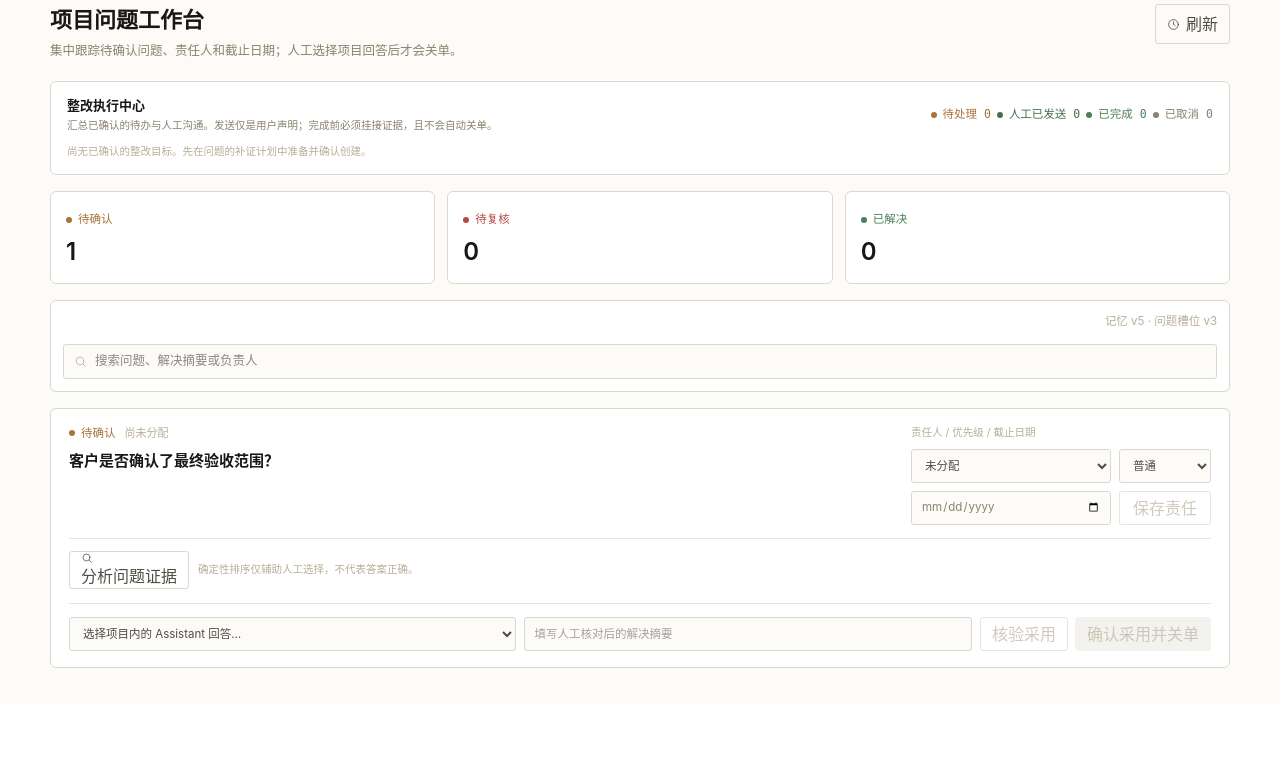
Test: project question workbench › persists a frozen preview and requires a second confirmation for manual communication
This screenshot has width=1280, height=764.
Expected: the heading "客户是否确认了最终验收范围？" is shown, 69,451 -> 279,470
Click the button "分析问题证据" at (129, 570), box 69,550 -> 189,588
(page scrolled)
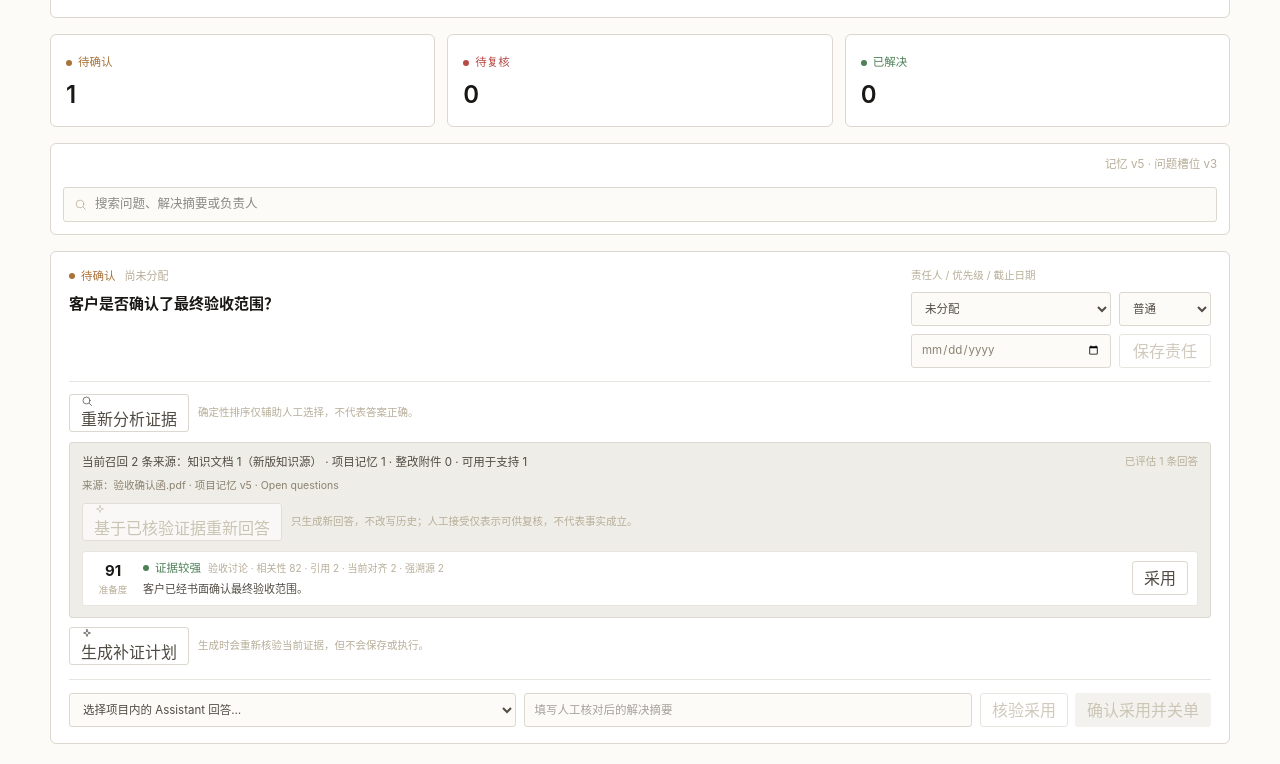
Now the element named "问题证据分析" is shown, box 69,442 -> 1211,618
Click the button "生成补证计划" at (129, 646), box 69,627 -> 189,665
(page scrolled)
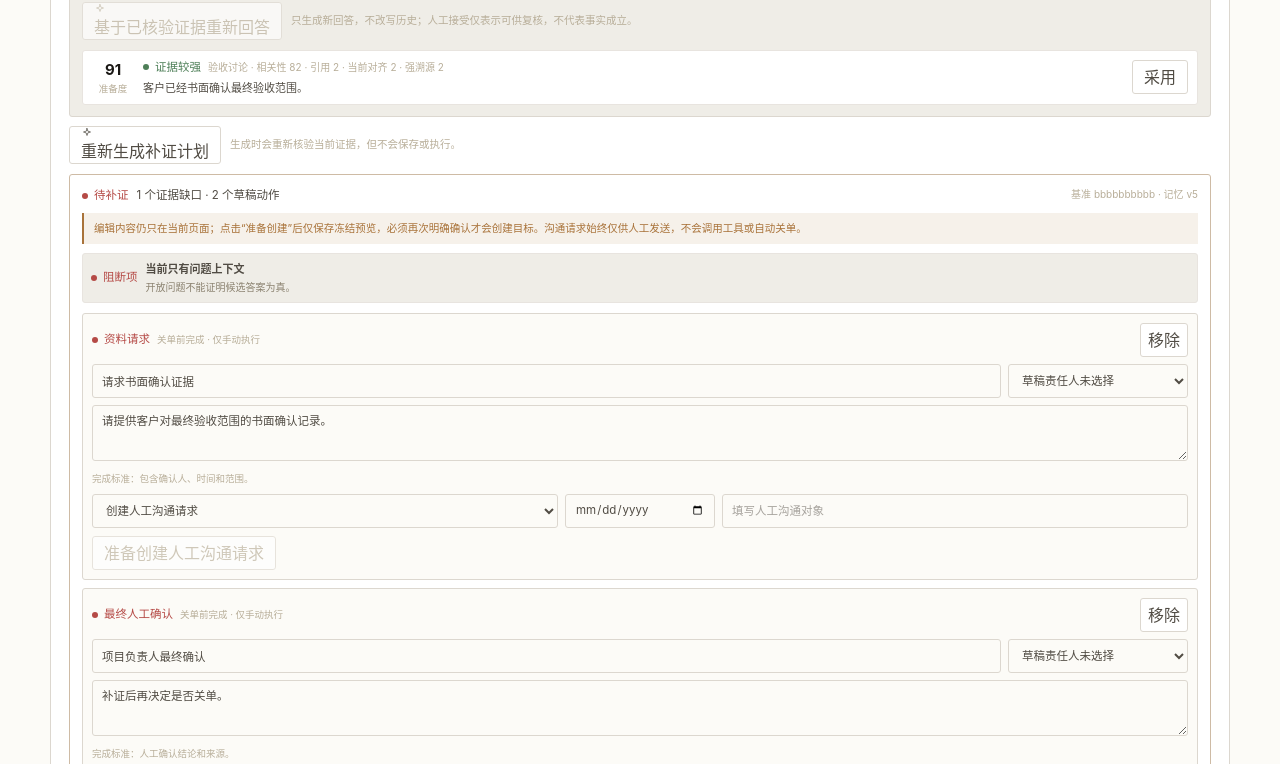
Now the dropdown named "补证动作目标 1" shows "创建人工沟通请求", box 92,494 -> 558,528
Select "交付经理" in the dropdown named "补证动作责任人 1" at (1098, 381), box 1008,364 -> 1188,398
Type "2026-09-15" into the date field named "补证动作截止日期 1" at (640, 511), box 565,494 -> 715,528
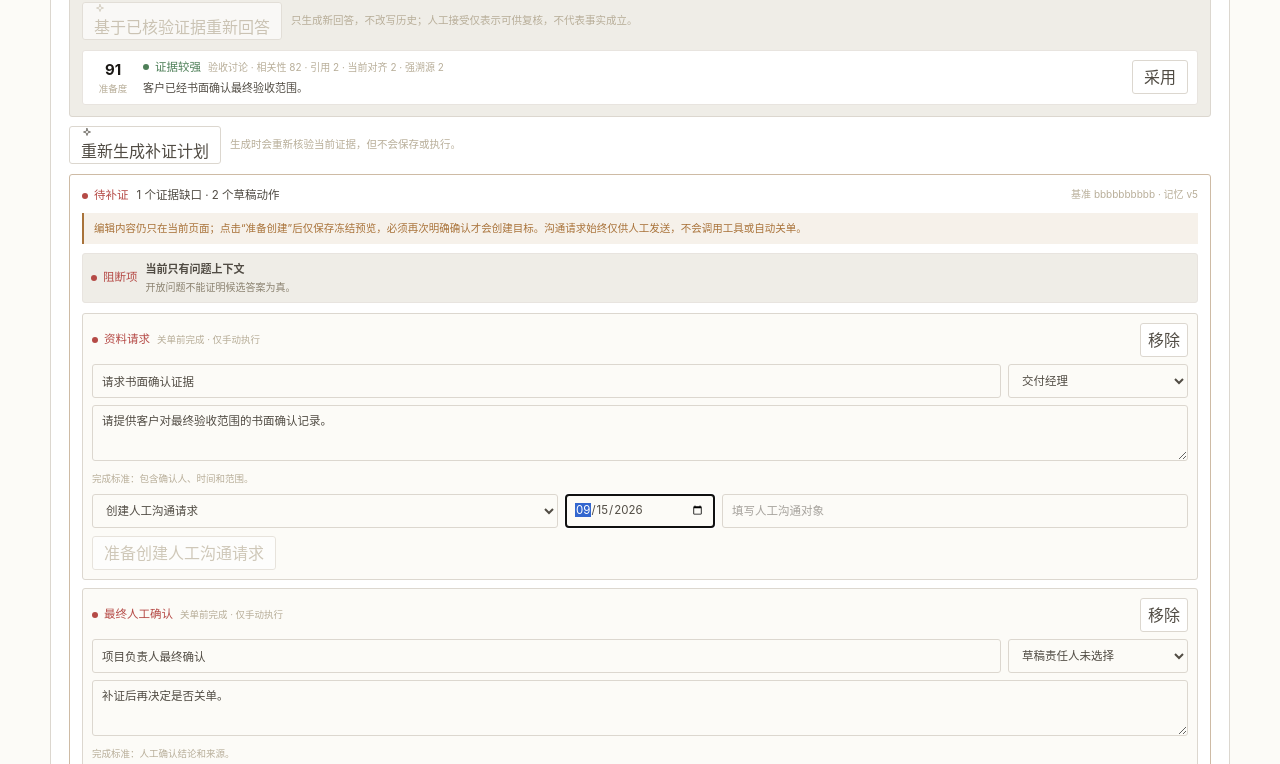
Type "客户项目经理" into the field named "补证动作沟通对象 1" at (955, 511), box 722,494 -> 1188,528
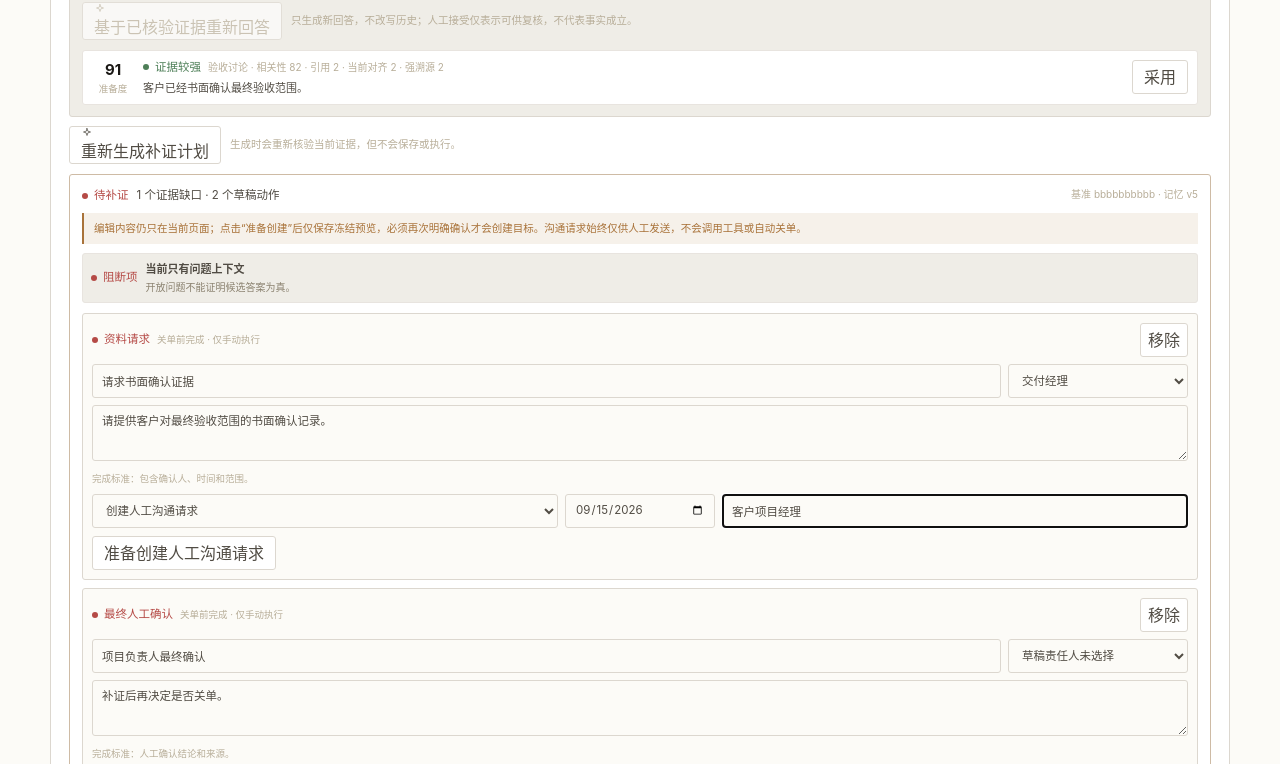
Click the button "准备创建人工沟通请求" at (184, 553), box 92,536 -> 276,570
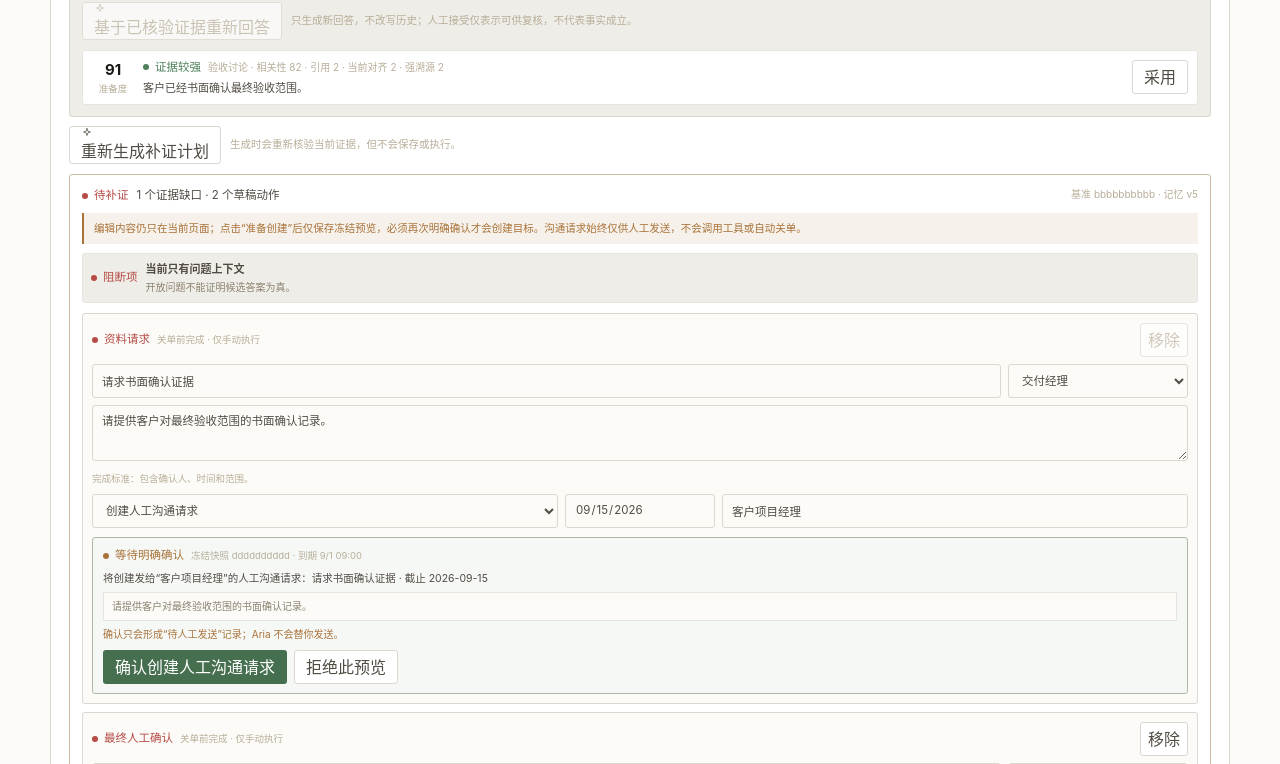
Expected: the text "人工沟通请求 #91 已就绪" is not shown
Now the text "等待明确确认" is shown, box 103,547 -> 184,564
Now the text "确认只会形成“待人工发送”记录；Aria 不会替你发送。" is shown, box 103,628 -> 343,640
Click the button "确认创建人工沟通请求" at (195, 667), box 103,650 -> 287,684
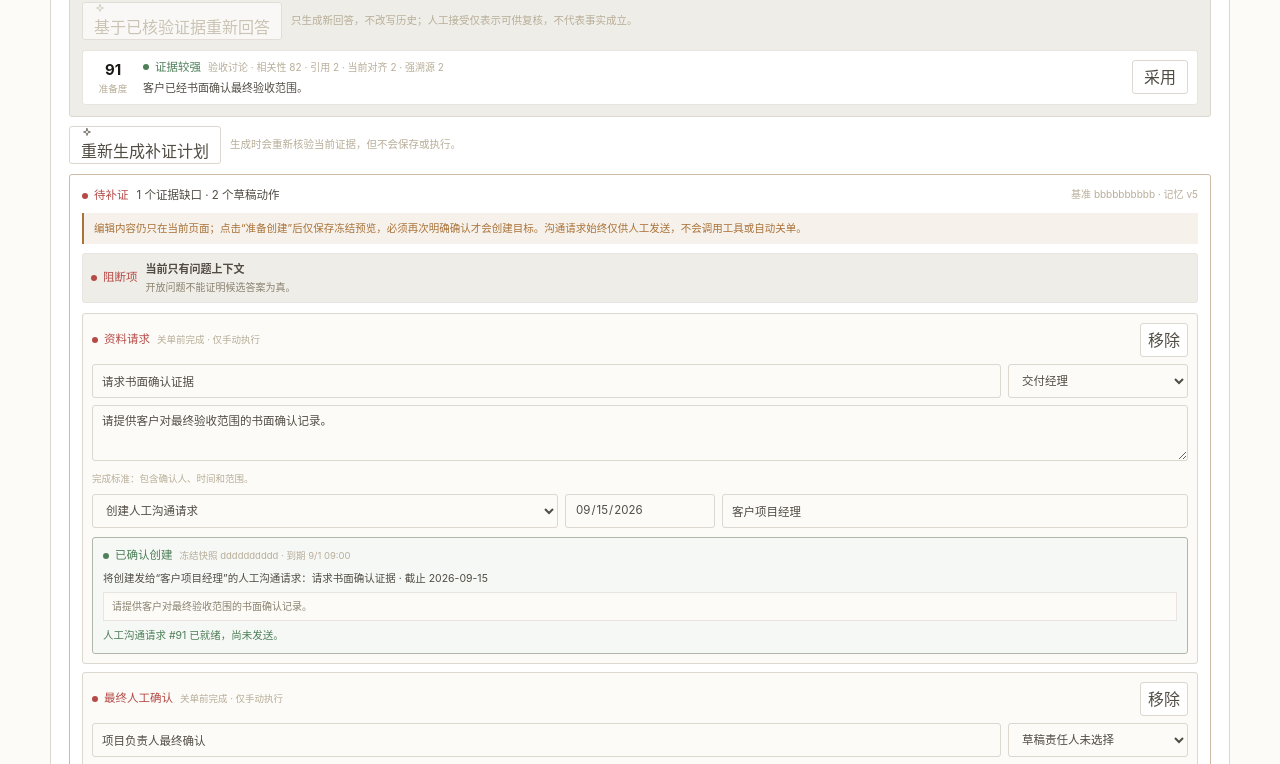
Now the text "人工沟通请求 #91 已就绪，尚未发送。" is shown, box 103,629 -> 284,642
